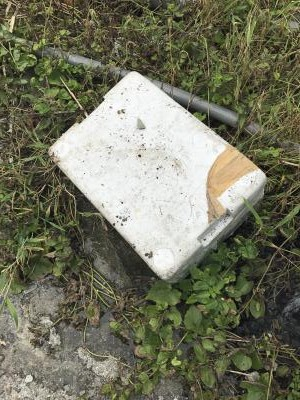styrofoam: (45, 69, 270, 288)
